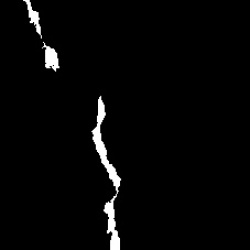crack: (91, 95, 121, 248), (22, 0, 42, 39), (44, 44, 60, 70)
